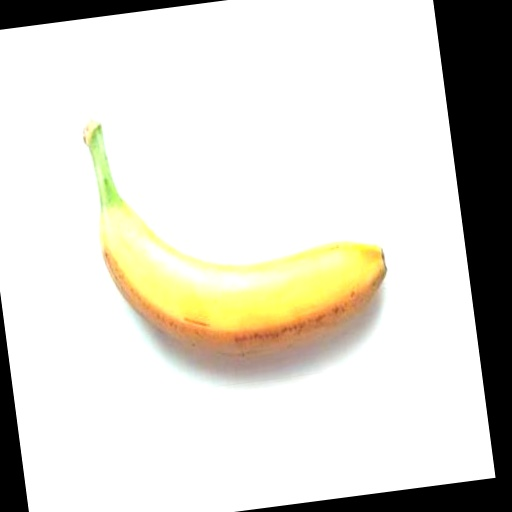fruit: (82, 118, 385, 354)
